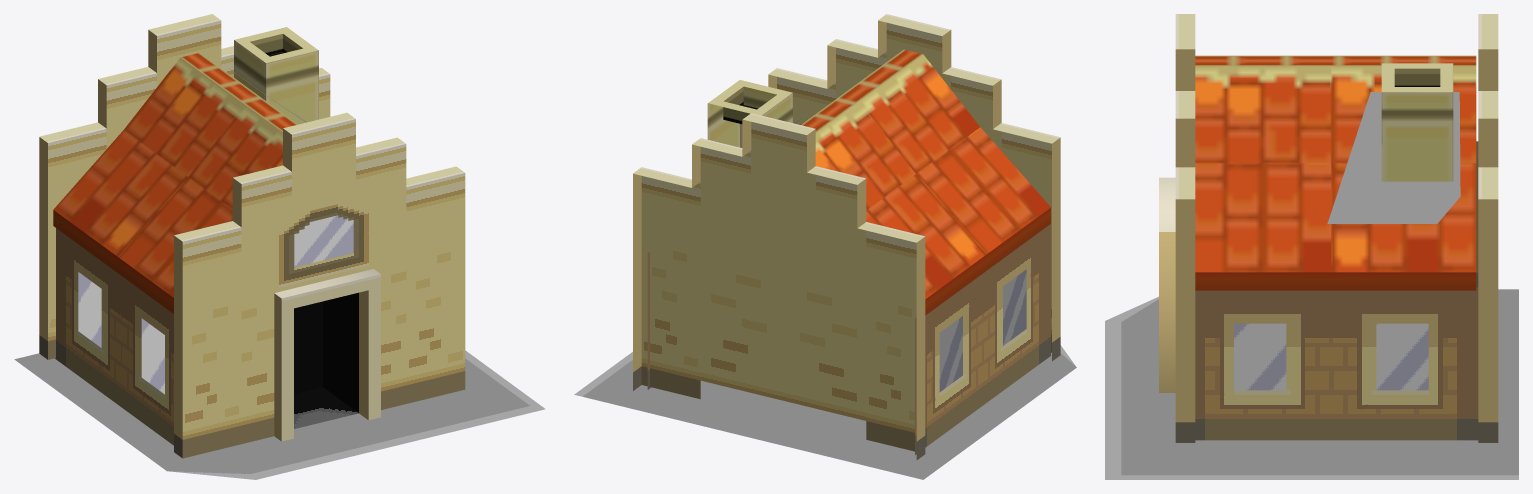
3 renders of one model, left to right at view 1: azimuth 30°, elevation 25°; view 2: azimuth 150°, elevation 25°; view 3: azimuth 270°, elevation 25°, orthographic. The views are drawn at different scales.
Visible parts, largest first — view 1: polygon1, polygon2, polygon3, polygon4; view 2: polygon1, polygon2, polygon3, polygon4; view 3: polygon2, polygon1, polygon3, polygon0, polygon4.
Part boxes in pixels (x1=…): polygon1: x1=39, y1=14, x2=465, y2=458; polygon2: x1=53, y1=27, x2=318, y2=313; polygon3: x1=14, y1=350, x2=545, y2=479; polygon4: x1=78, y1=215, x2=353, y2=394; polygon1: x1=633, y1=14, x2=1060, y2=459; polygon2: x1=707, y1=49, x2=1050, y2=315; polygon3: x1=574, y1=345, x2=1076, y2=479; polygon4: x1=939, y1=269, x2=1026, y2=391; polygon2: x1=1195, y1=55, x2=1476, y2=290; polygon1: x1=1159, y1=14, x2=1498, y2=442; polygon3: x1=1105, y1=289, x2=1518, y2=479; polygon0: x1=1327, y1=92, x2=1460, y2=223; polygon4: x1=1234, y1=323, x2=1428, y2=390.
Size of the model in its own units: 5.25 by 4.41 by 4.81.
